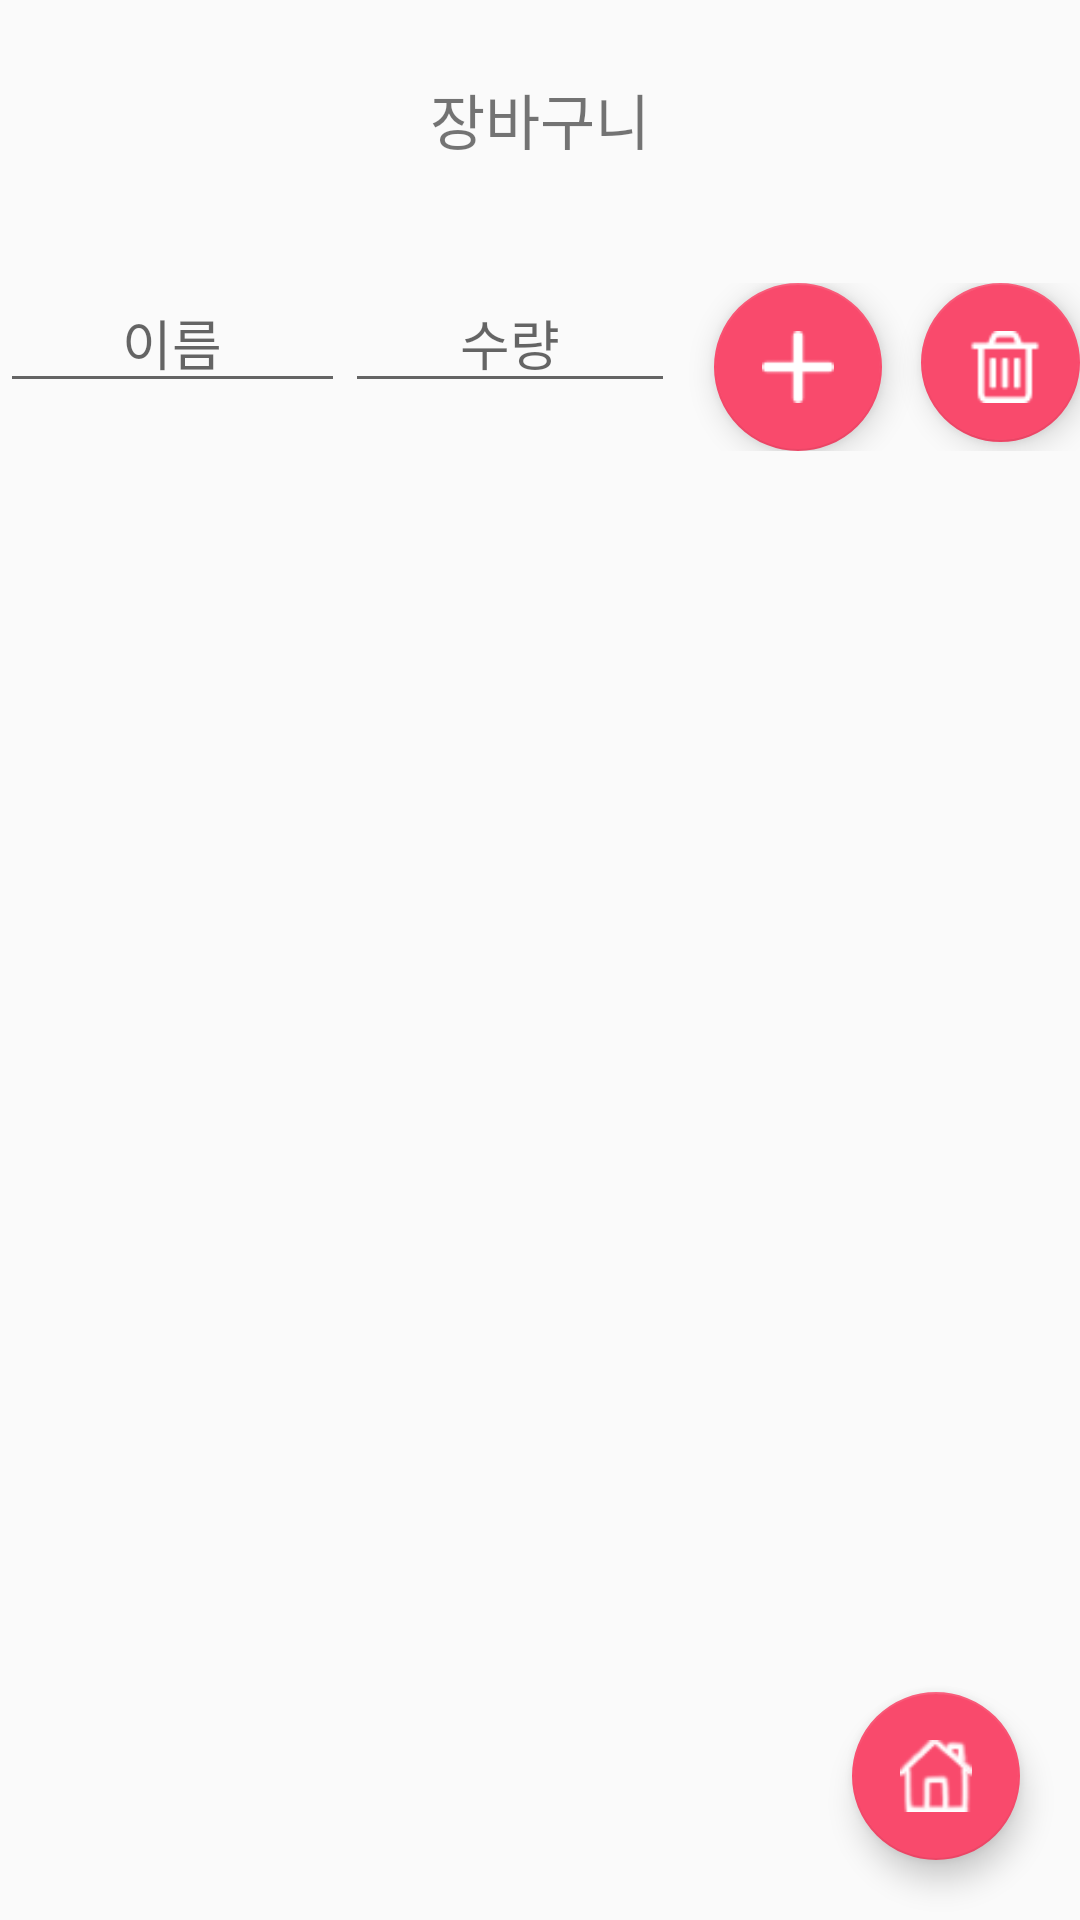

Where to tap for icons on this 1080x1920 app screen, as point (x, y):
delete: point (1000, 362)
home: point (936, 1776)
plus: point (798, 367)
